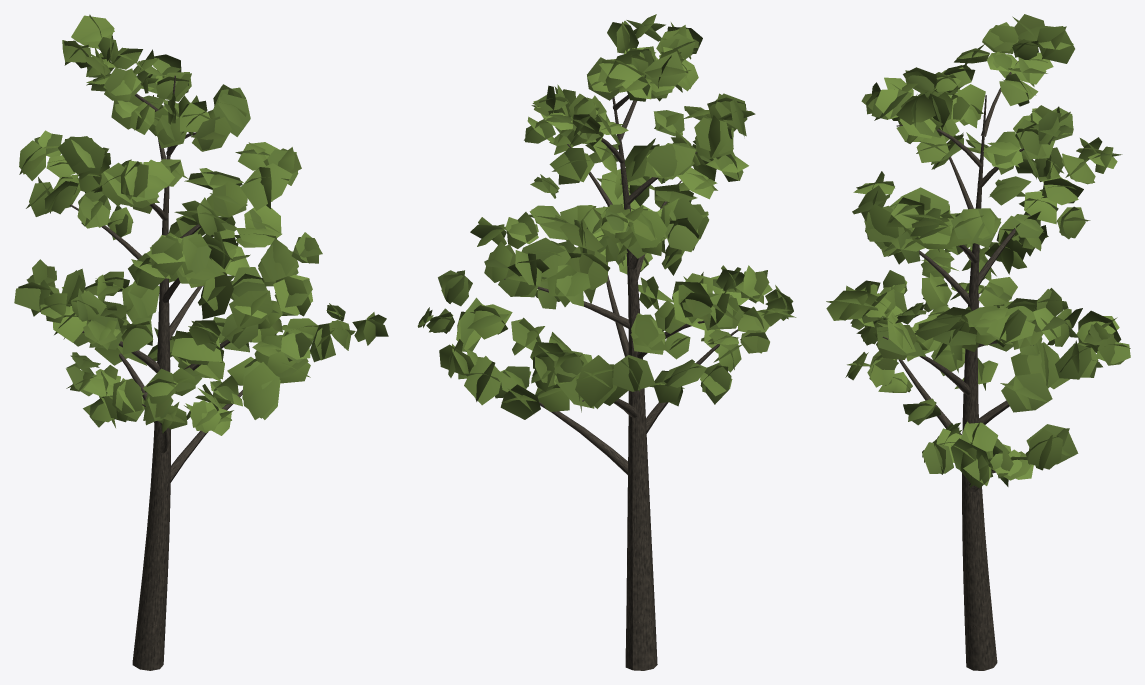
File: open_04_lod1.glb
3 renders of one model, left to right at view 1: azimuth 30°, elevation 25°; view 2: azimuth 150°, elevation 25°; view 3: azimuth 270°, elevation 25°, orthographic. The views are drawn at different scales.
Parts seen in each view (by area): view 1: individual_curved_leaf_sprigs, retained_branches_0; view 2: individual_curved_leaf_sprigs, retained_branches_0; view 3: individual_curved_leaf_sprigs, retained_branches_0.
Boxes of the visible parts, left/top/right/bottom form: individual_curved_leaf_sprigs: left=14, top=14, right=388, bottom=435; retained_branches_0: left=70, top=75, right=242, bottom=670; individual_curved_leaf_sprigs: left=417, top=14, right=796, bottom=419; retained_branches_0: left=504, top=95, right=738, bottom=670; individual_curved_leaf_sprigs: left=826, top=14, right=1130, bottom=488; retained_branches_0: left=882, top=61, right=1033, bottom=670.
Size of the model in its own units: 6.43 by 11.56 by 5.09.
2 materials, 1 textured.
